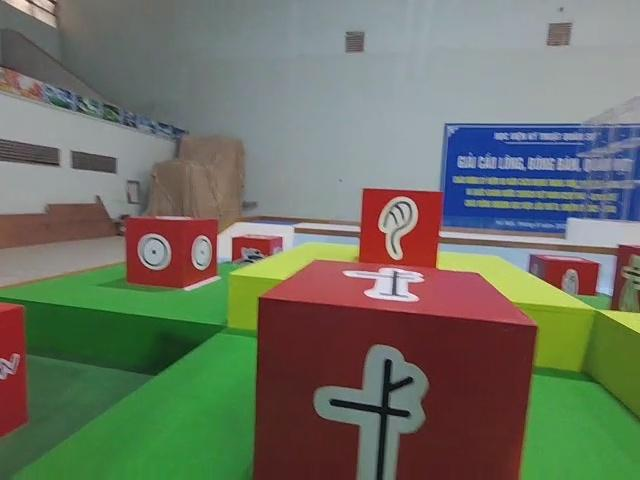R2 Fake: (357, 183, 444, 272)
R2 Real: (251, 257, 540, 480), (124, 212, 218, 289)
